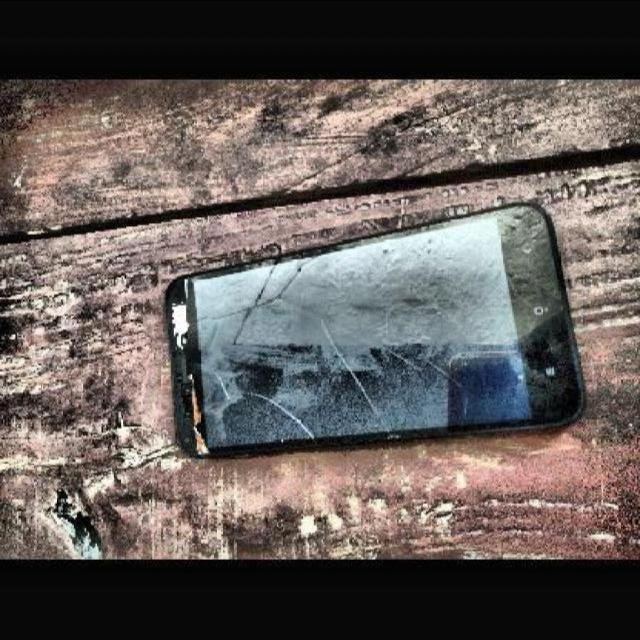Crack: (161, 208, 589, 459)
